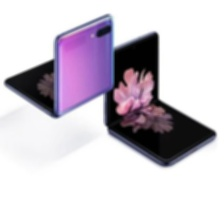phone: (98, 27, 217, 172), (0, 13, 117, 124)
